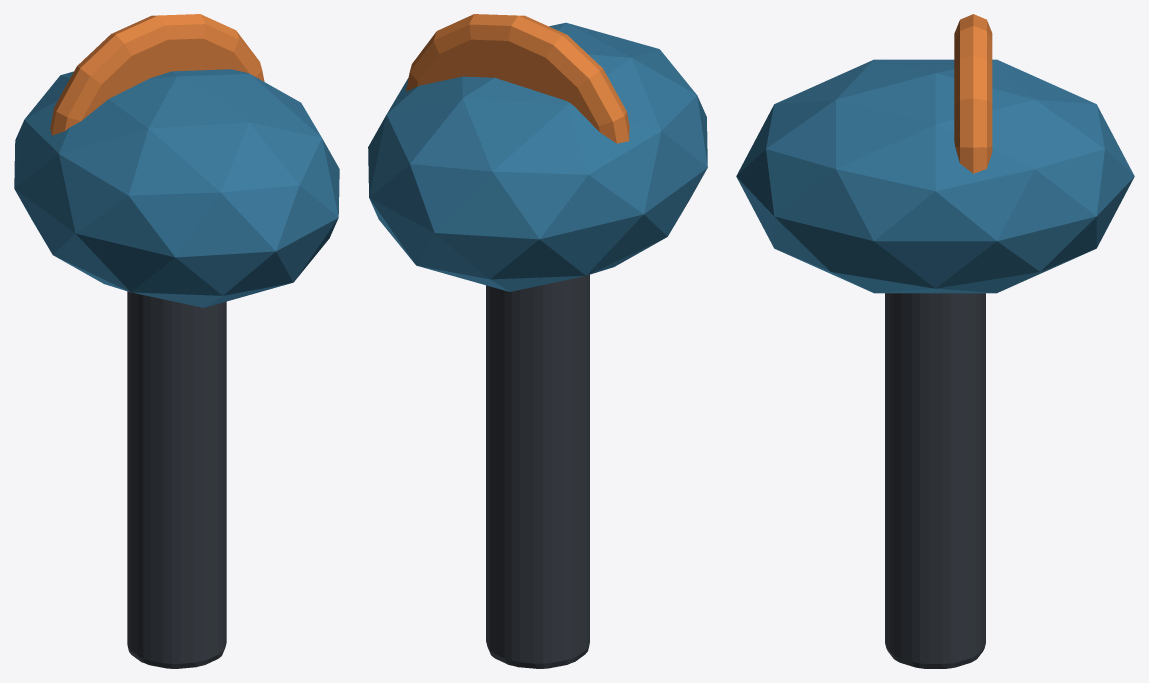
File: SensorMast.fbx
The picture shows the model from 3 angles, left to right: view 1: azimuth 30°, elevation 25°; view 2: azimuth 150°, elevation 25°; view 3: azimuth 270°, elevation 25°; orthographic projection. The views are drawn at different scales.
Visible parts, largest first — view 1: SensorMastHead_RENDER, SensorMastStem_RENDER, SensorDish_RENDER; view 2: SensorMastHead_RENDER, SensorMastStem_RENDER, SensorDish_RENDER; view 3: SensorMastHead_RENDER, SensorMastStem_RENDER, SensorDish_RENDER.
Part boxes in pixels (bbox=[...]): SensorMastHead_RENDER: bbox=[14, 69, 339, 307]; SensorMastStem_RENDER: bbox=[127, 291, 226, 668]; SensorDish_RENDER: bbox=[50, 14, 264, 135]; SensorMastHead_RENDER: bbox=[368, 22, 707, 291]; SensorMastStem_RENDER: bbox=[486, 274, 589, 668]; SensorDish_RENDER: bbox=[406, 14, 629, 143]; SensorMastHead_RENDER: bbox=[736, 59, 1134, 293]; SensorMastStem_RENDER: bbox=[885, 293, 985, 668]; SensorDish_RENDER: bbox=[954, 14, 992, 173].
Bounding box in the file's own units: 0.6467 × 1.45 × 0.84.
